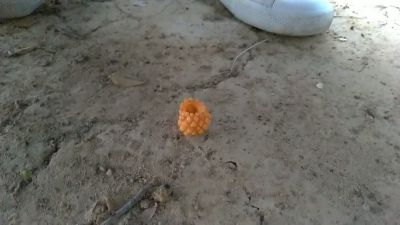eggs: (177, 98, 210, 137)
